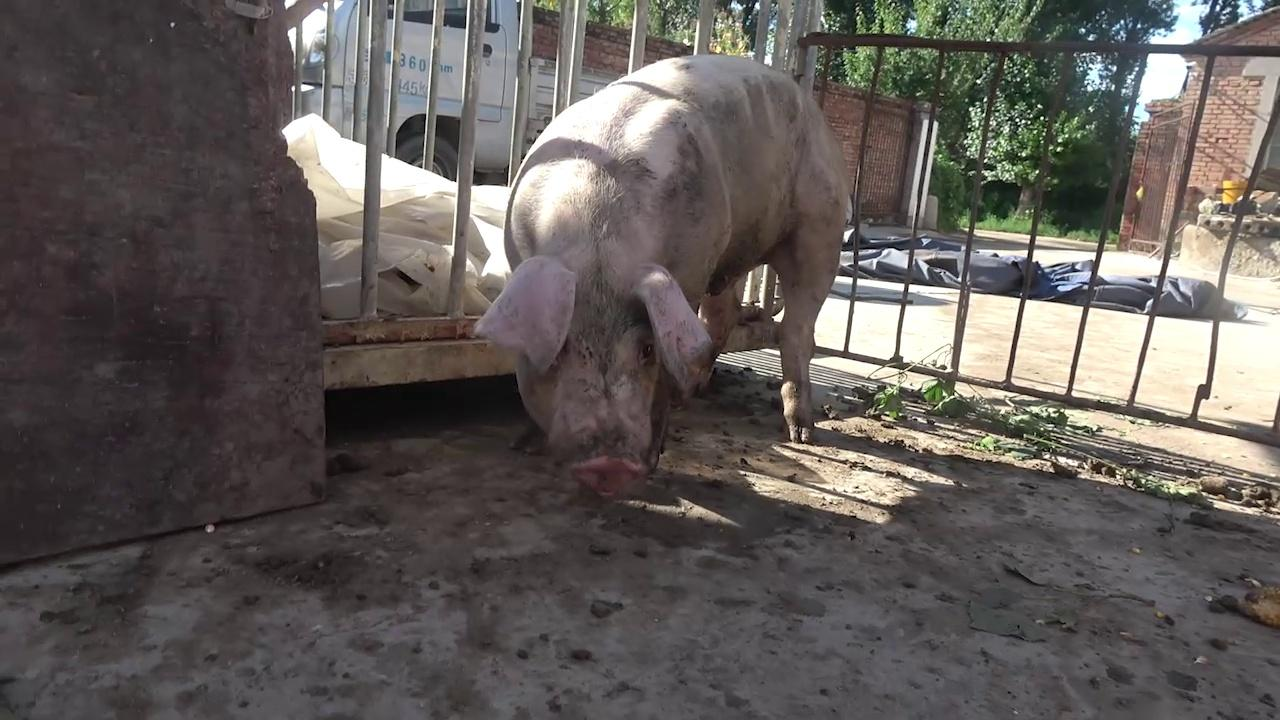Face: (472, 249, 720, 501)
